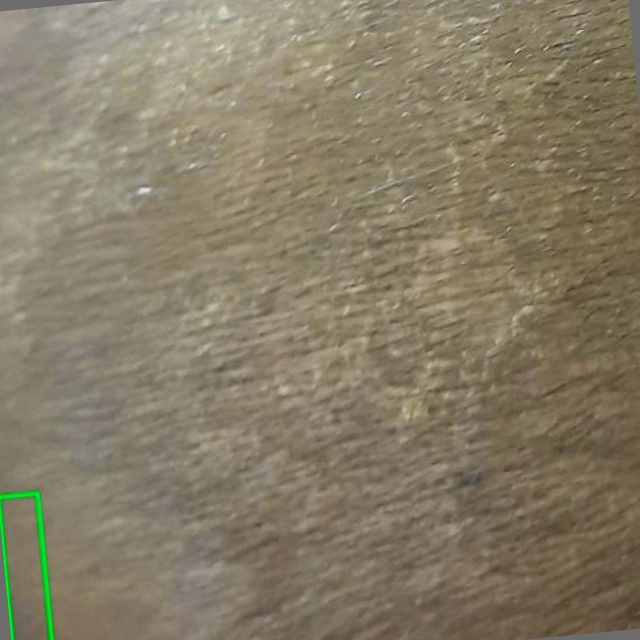Seborrheic Dermatitis: (0, 493, 51, 639)
